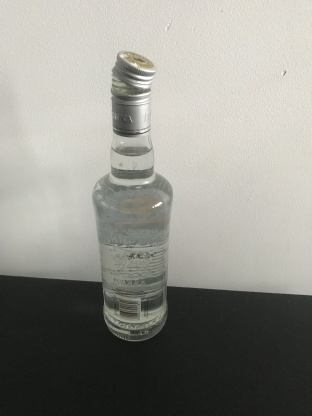nakretka: (109, 48, 157, 138)
